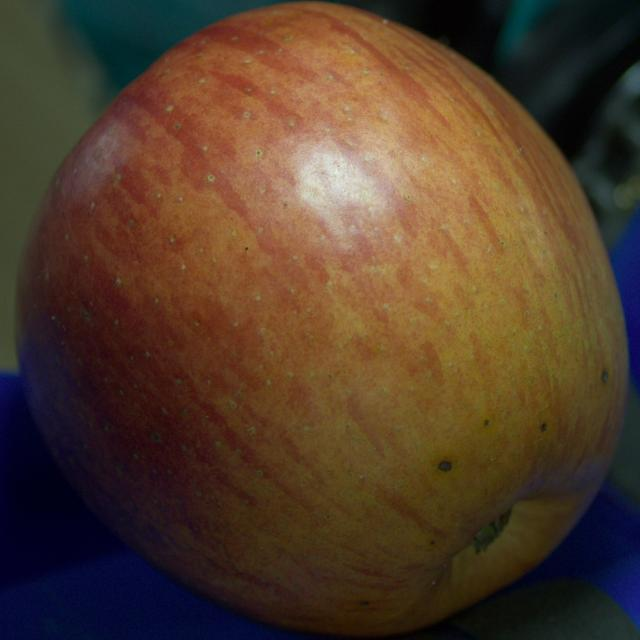apple: (16, 2, 629, 636)
pest: (439, 461, 451, 471), (601, 369, 608, 383), (359, 601, 369, 606), (541, 423, 547, 431), (484, 419, 489, 425)
